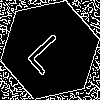L: (25, 25, 77, 77)
